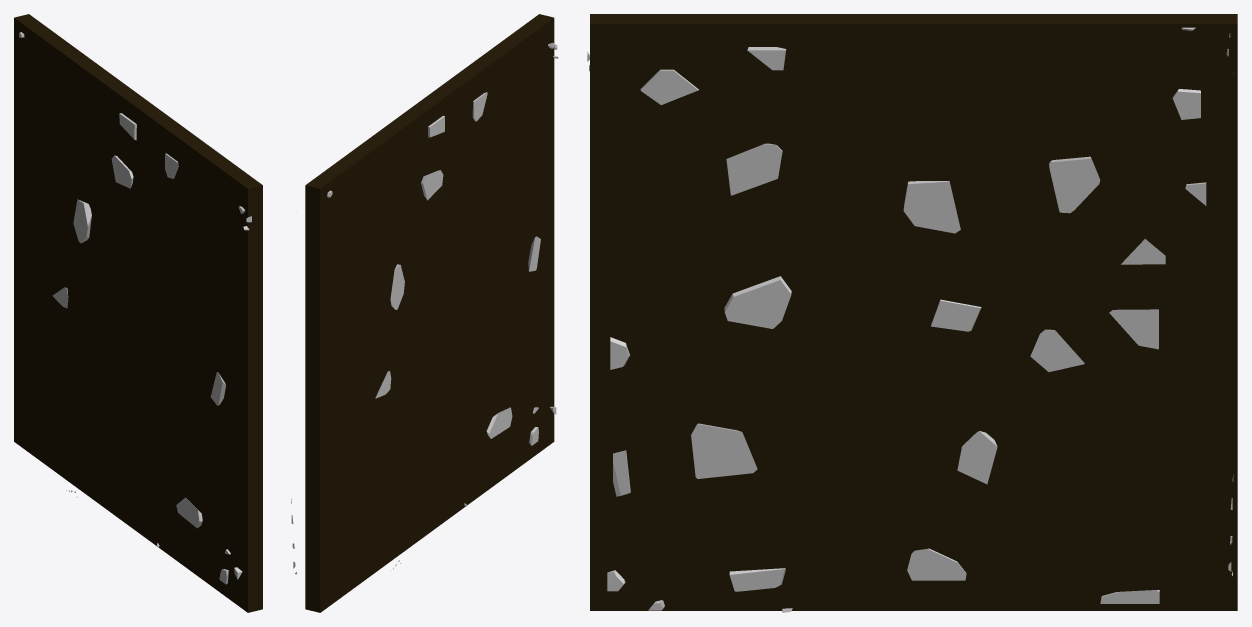
File: ground.fbx
The picture shows the model from 3 angles, left to right: view 1: azimuth 30°, elevation 25°; view 2: azimuth 150°, elevation 25°; view 3: azimuth 270°, elevation 25°; orthographic projection. The views are drawn at different scales.
Parts seen in each view (by area): view 1: Cube_cell.040_cell.005; view 2: Cube_cell.040_cell.005; view 3: Cube_cell.040_cell.005.
Boxes of the visible parts, x1,y1,x2,y2 form: Cube_cell.040_cell.005: (14,14,262,612); Cube_cell.040_cell.005: (291,14,558,612); Cube_cell.040_cell.005: (587,14,1237,612).
Bounding box in the file's own units: 19.68 × 201 × 201.
